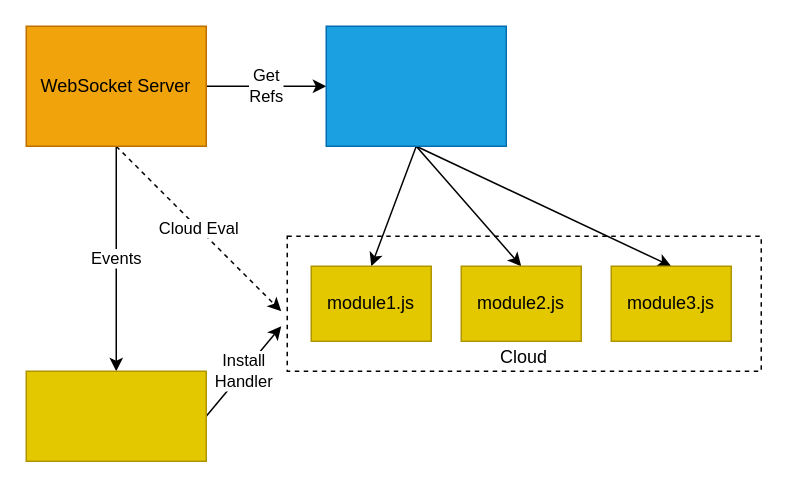
This 788x488 diagram has some shape labels left out. The centre of each missing label's shape, as x and y in pixels:
Event Handlers: point (115, 415)
Piral Cloud Discovery Service: point (415, 85)
